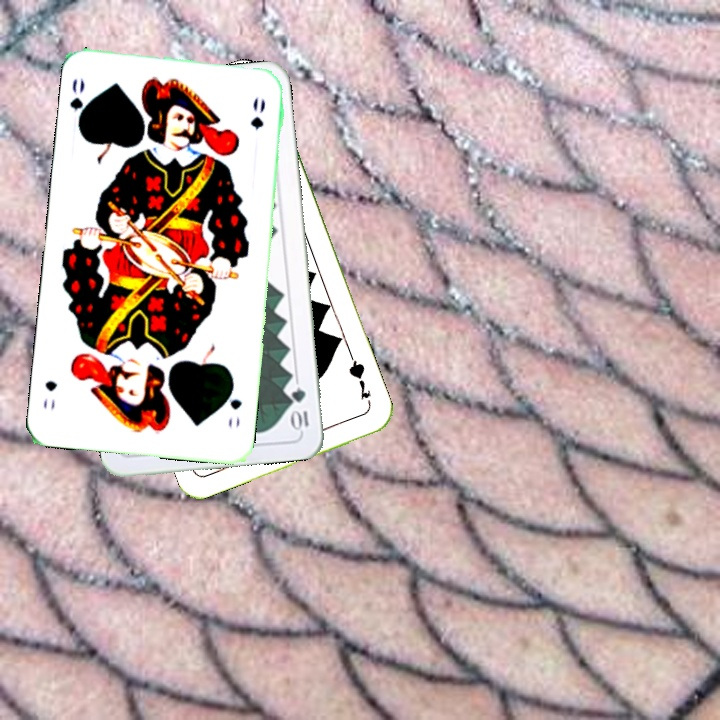G10: (288, 384, 311, 433)
G7: (344, 352, 373, 402)
GO: (65, 73, 93, 132), (222, 379, 245, 430)
